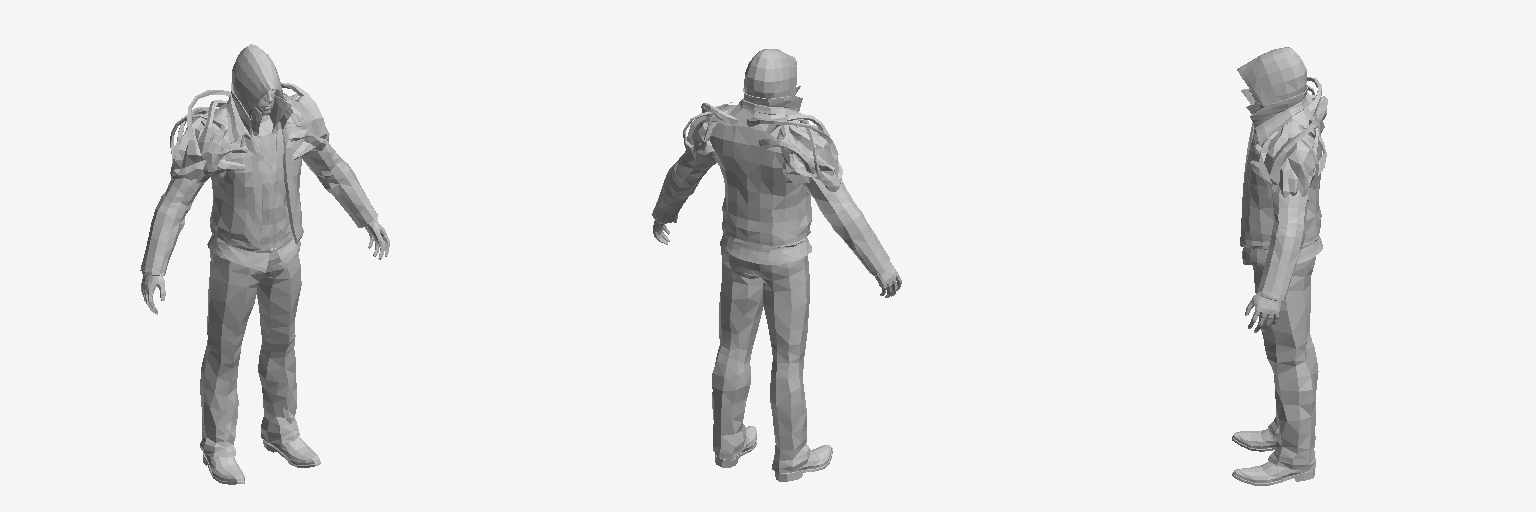
Rendered from Alex.obj.
3 renders of one model, left to right at view 1: azimuth 30°, elevation 25°; view 2: azimuth 150°, elevation 25°; view 3: azimuth 270°, elevation 25°, orthographic.
Visible parts, largest first — view 1: mesh2, mesh5, mesh4, mesh0, mesh6, mesh1; view 2: mesh2, mesh5, mesh0, mesh6, mesh4; view 3: mesh2, mesh5, mesh6, mesh0, mesh4.
Boxes of the visible parts, x1=… form: mesh2: x1=200, y1=250, x2=320, y2=484; mesh5: x1=201, y1=83, x2=303, y2=252; mesh4: x1=207, y1=44, x2=300, y2=272; mesh0: x1=140, y1=139, x2=389, y2=314; mesh6: x1=170, y1=82, x2=329, y2=183; mesh1: x1=255, y1=89, x2=276, y2=147; mesh2: x1=712, y1=248, x2=832, y2=481; mesh5: x1=710, y1=88, x2=811, y2=245; mesh0: x1=652, y1=151, x2=901, y2=297; mesh6: x1=683, y1=103, x2=842, y2=191; mesh4: x1=720, y1=49, x2=811, y2=264; mesh2: x1=1232, y1=256, x2=1318, y2=485; mesh5: x1=1240, y1=84, x2=1321, y2=248; mesh6: x1=1248, y1=77, x2=1327, y2=201; mesh0: x1=1245, y1=187, x2=1307, y2=332; mesh4: x1=1237, y1=47, x2=1322, y2=265.
Bounding box in the file's own units: 23.06 × 38.13 × 8.01.